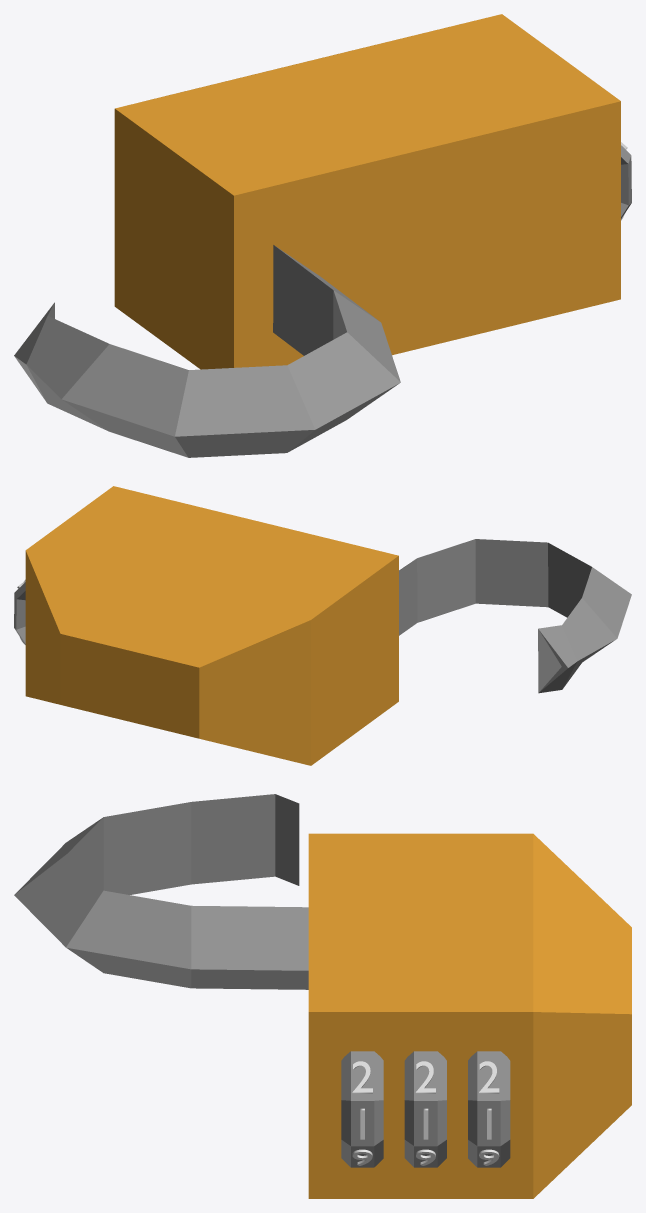
File: Padlock.fbx
The picture shows the model from 3 angles, top to bottom: view 1: azimuth 30°, elevation 25°; view 2: azimuth 150°, elevation 25°; view 3: azimuth 270°, elevation 25°; orthographic projection. The views are drawn at different scales.
Visible parts, largest first — view 1: Body, Lock, Torus; view 2: Body, Lock, Torus.002; view 3: Body, Lock, Torus, Torus.001, Torus.002.
Boxes of the visible parts, bbox=[...] form: Body: bbox=[114, 14, 620, 369]; Lock: bbox=[14, 245, 400, 457]; Torus: bbox=[621, 142, 631, 220]; Body: bbox=[25, 486, 398, 765]; Lock: bbox=[399, 539, 631, 693]; Torus.002: bbox=[14, 579, 25, 644]; Body: bbox=[308, 833, 631, 1198]; Lock: bbox=[14, 794, 308, 989]; Torus: bbox=[341, 1051, 383, 1167]; Torus.001: bbox=[404, 1051, 446, 1167]; Torus.002: bbox=[468, 1051, 510, 1167].
Bounding box in the file's own units: 340 × 97.81 × 293.
